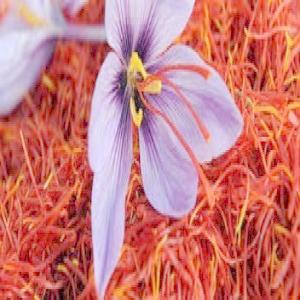Saffron: (91, 0, 241, 290)
